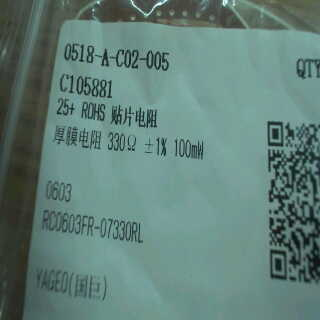330R: (106, 128, 140, 156)
